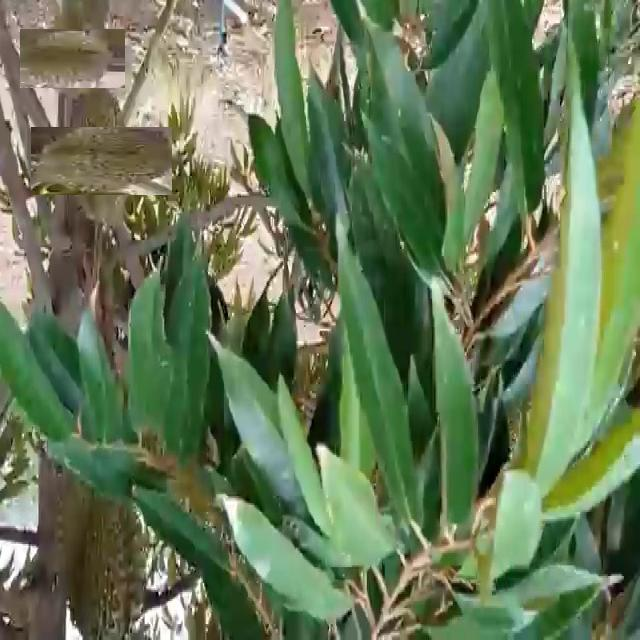durian: (61, 489, 153, 640), (49, 109, 155, 213), (31, 17, 114, 100)
